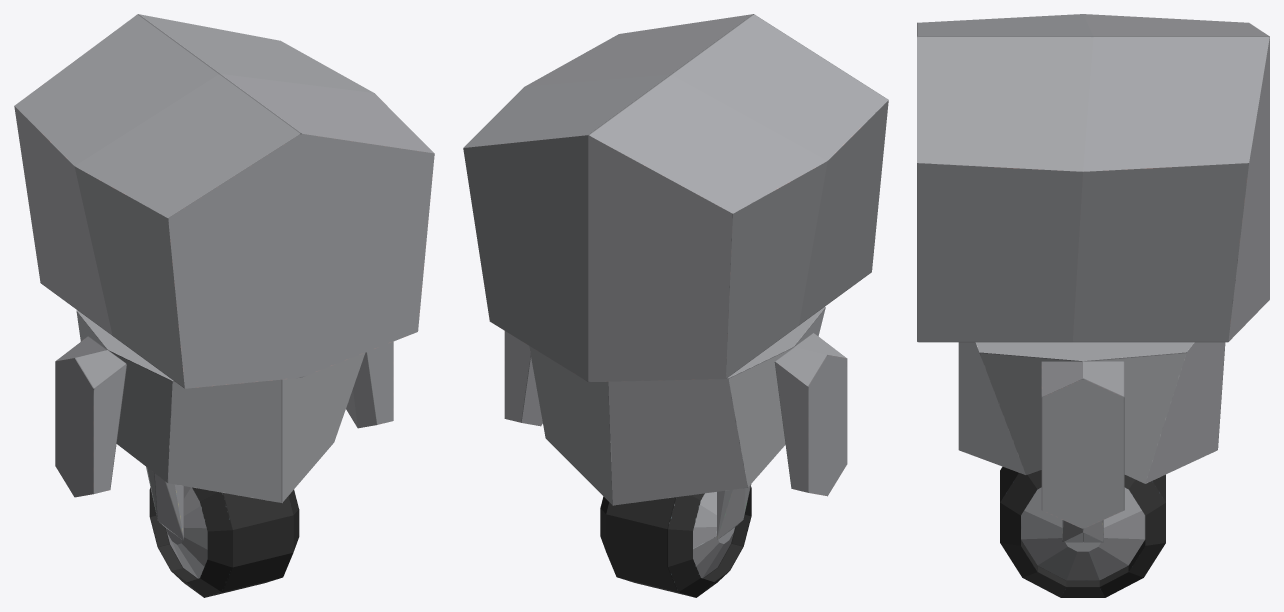
Rendered from proto_character_player.fbx.
3 renders of one model, left to right at view 1: azimuth 30°, elevation 25°; view 2: azimuth 150°, elevation 25°; view 3: azimuth 270°, elevation 25°, orthographic. The views are drawn at different scales.
Parts seen in each view (by area): view 1: Head, Body, Tire, L_Arm, R_Arm, R_Tire_Mount_1; view 2: Head, Body, Tire, L_Arm, R_Arm, R_Tire_Mount_1; view 3: Head, Body, Tire, R_Arm, R_Tire_Mount.
Part boxes in pixels (x1=…): Head: x1=14, y1=14, x2=434, y2=388; Body: x1=76, y1=310, x2=365, y2=502; Tire: x1=149, y1=486, x2=299, y2=597; L_Arm: x1=55, y1=336, x2=126, y2=497; R_Arm: x1=346, y1=341, x2=393, y2=428; R_Tire_Mount_1: x1=146, y1=467, x2=183, y2=540; Head: x1=463, y1=14, x2=888, y2=382; Body: x1=529, y1=307, x2=825, y2=505; Tire: x1=600, y1=486, x2=751, y2=597; L_Arm: x1=774, y1=333, x2=847, y2=496; R_Arm: x1=504, y1=331, x2=542, y2=426; R_Tire_Mount_1: x1=717, y1=484, x2=751, y2=539; Head: x1=917, y1=14, x2=1269, y2=342; Body: x1=958, y1=342, x2=1225, y2=483; Tire: x1=1000, y1=466, x2=1165, y2=597; R_Arm: x1=1041, y1=361, x2=1124, y2=528; R_Tire_Mount: x1=1062, y1=520, x2=1103, y2=542.
Size of the model in its own units: 112 by 181 by 106.
1 material, 1 textured.
